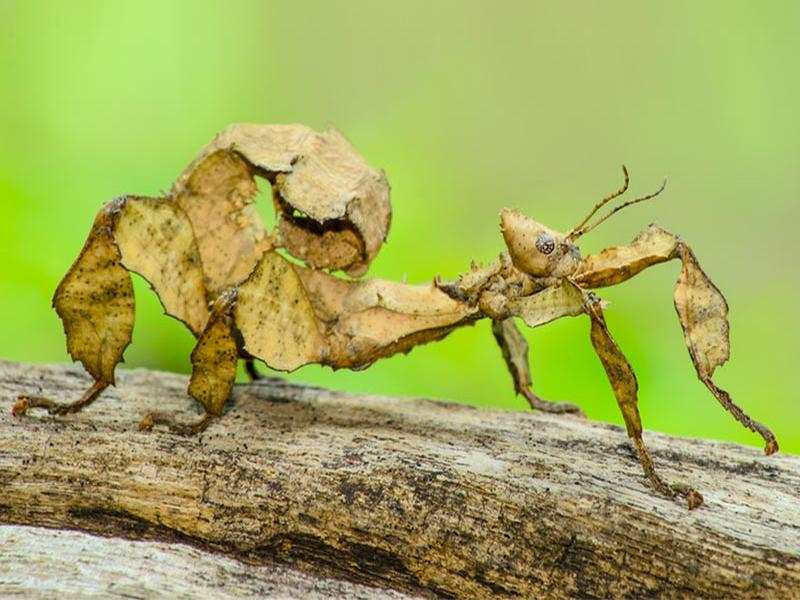Spiny_beetle: (418, 192, 683, 399)
